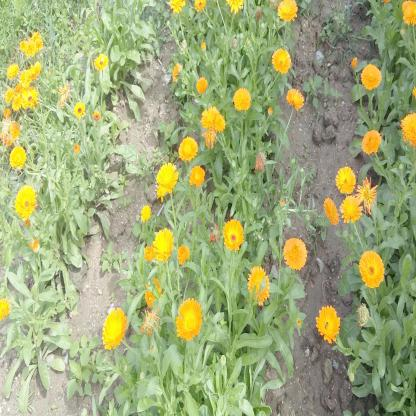marigold: (359, 247, 385, 288), (178, 298, 202, 340), (103, 307, 127, 345), (317, 304, 340, 340), (155, 164, 179, 196), (249, 265, 268, 304), (15, 186, 38, 218), (285, 238, 306, 270), (223, 219, 243, 252), (358, 178, 376, 211), (340, 195, 362, 221), (360, 64, 382, 90), (336, 166, 356, 194), (272, 47, 292, 74), (155, 233, 173, 261), (361, 130, 382, 153), (178, 136, 198, 159), (233, 87, 251, 112), (401, 112, 415, 144), (286, 85, 304, 109), (324, 196, 339, 223), (279, 0, 298, 21), (402, 0, 416, 27), (9, 145, 26, 167), (201, 107, 217, 128), (177, 244, 191, 266), (0, 294, 10, 321), (94, 53, 108, 72), (191, 166, 205, 185), (23, 88, 36, 108), (196, 74, 208, 94), (170, 0, 185, 14), (74, 100, 86, 117), (9, 62, 19, 79), (30, 64, 42, 78), (26, 41, 37, 55), (215, 117, 225, 132), (194, 0, 206, 12), (141, 205, 151, 218), (5, 88, 14, 102), (13, 95, 22, 108), (19, 39, 27, 51), (36, 38, 44, 50), (21, 69, 31, 78), (23, 79, 32, 88), (32, 31, 40, 41)
